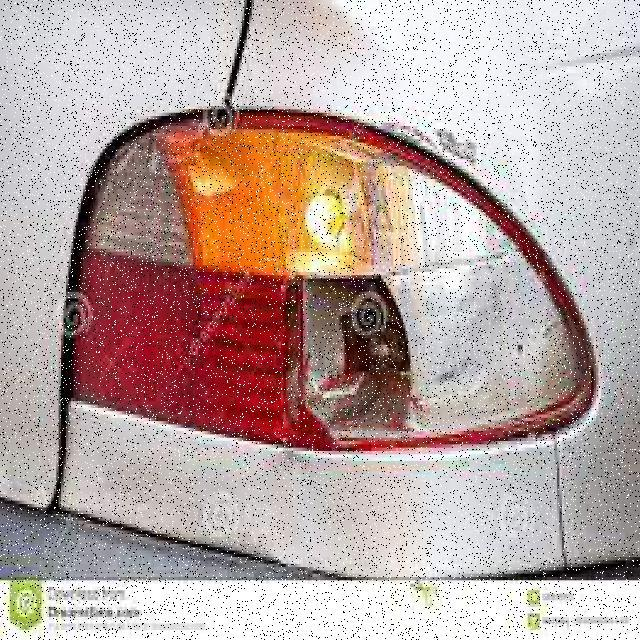Signlight-Damage: (276, 93, 594, 451)
Taillight-Damage: (46, 80, 596, 445)
